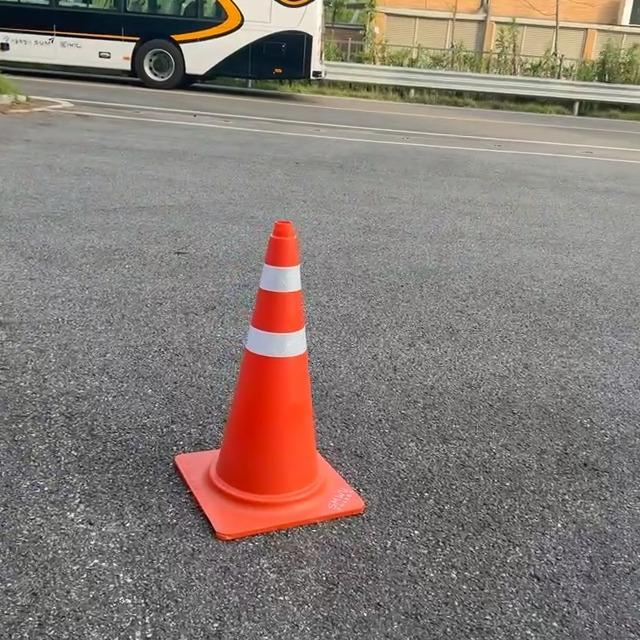fallen_object: (129, 205, 389, 588)
